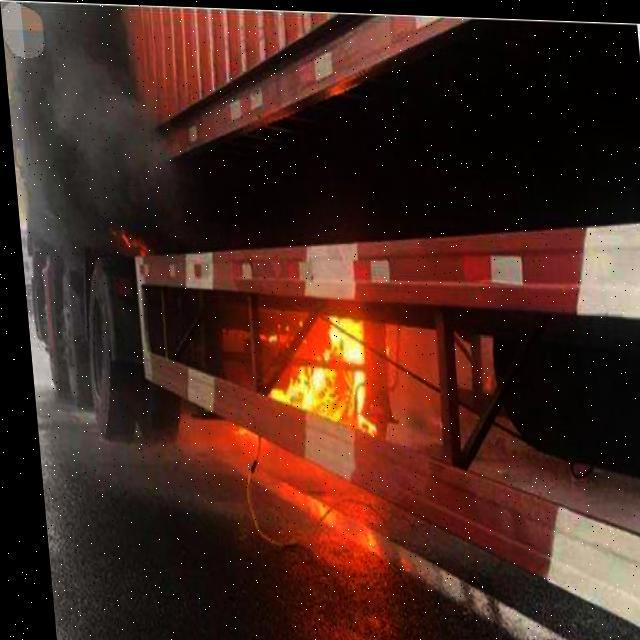Fire: (246, 300, 381, 473)
